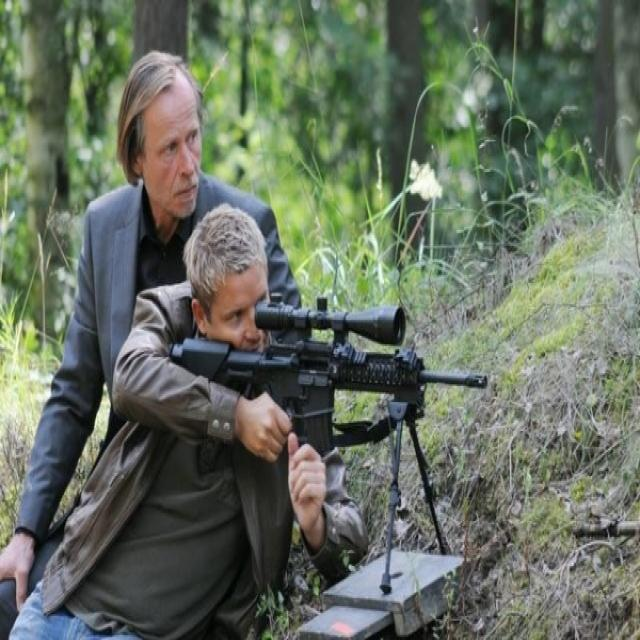rifle: (167, 277, 497, 600)
